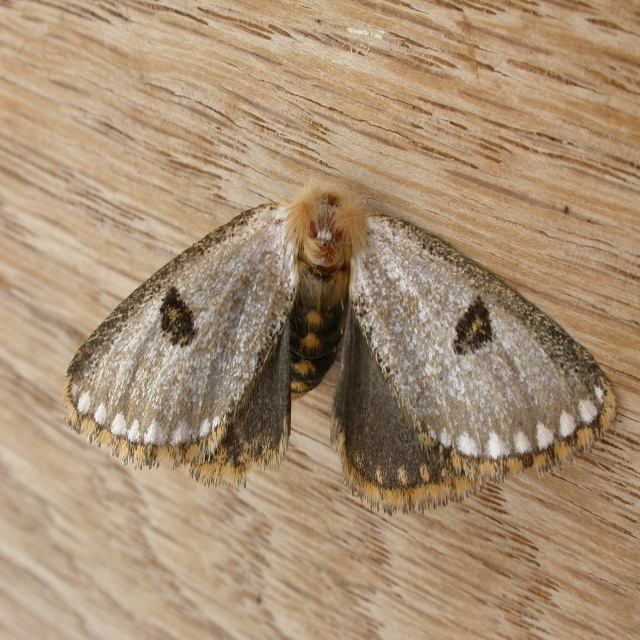Butterfly: (67, 177, 621, 518)
